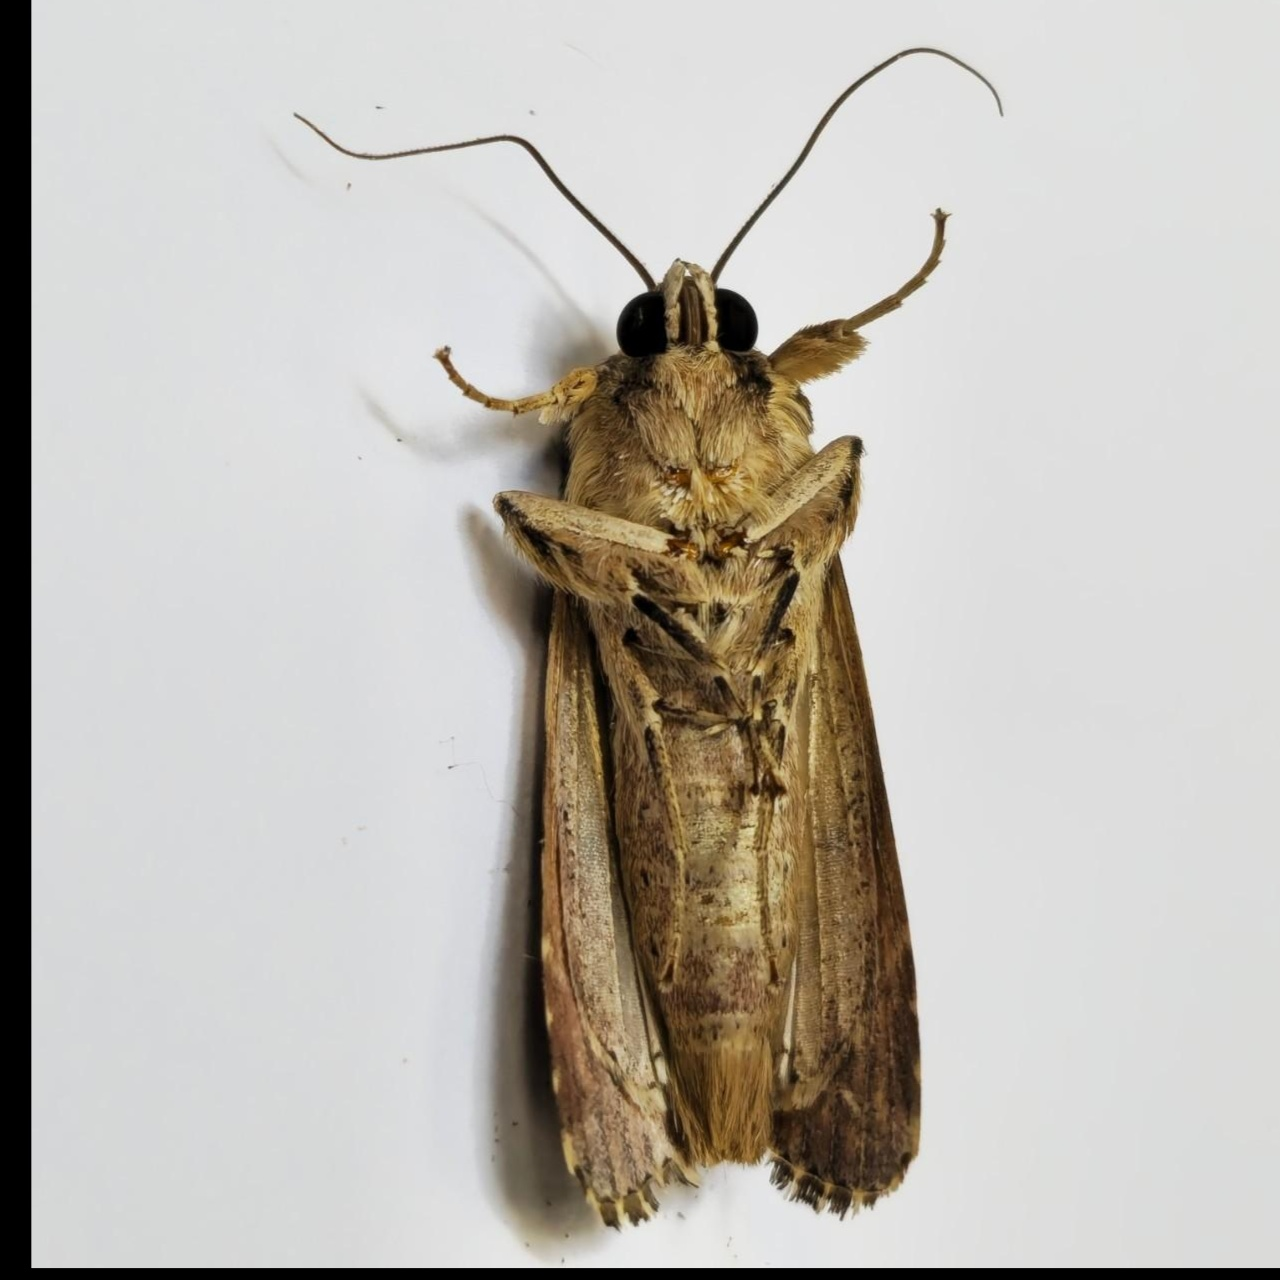Spodoptera litura: (295, 47, 1005, 1232)
